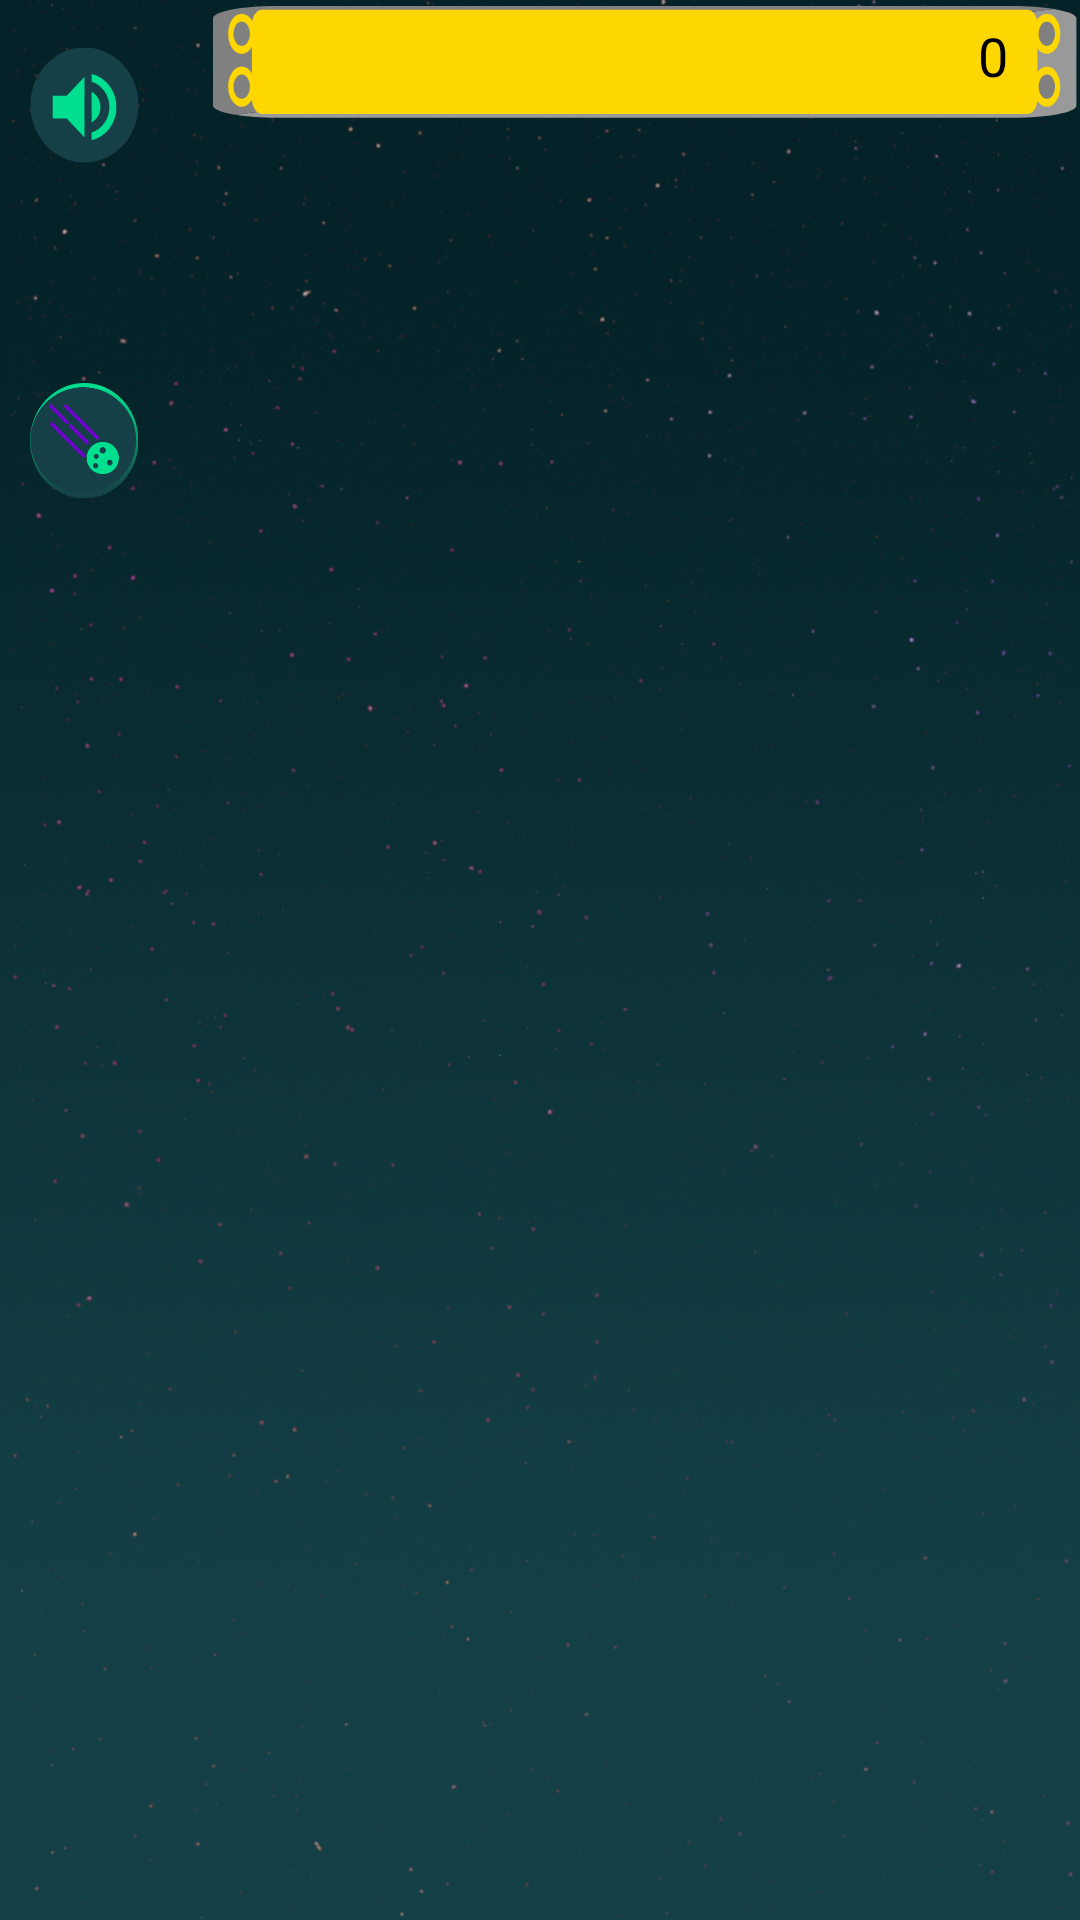

Where icons sit on this 1080px×1920px app screen, as (x1, y1, x2, y2):
Sound Button: (30, 48, 138, 162)
